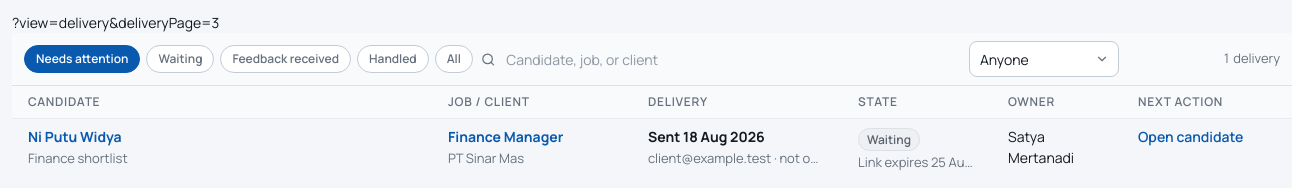
Test: DeliveryWorkbench › filters › drops the page when the filters change
Expected: the text "Ni Putu Widya" is shown, [28, 127, 122, 146]
Click the radio button labelled "All".
click(454, 59)  # box [435, 45, 473, 73]
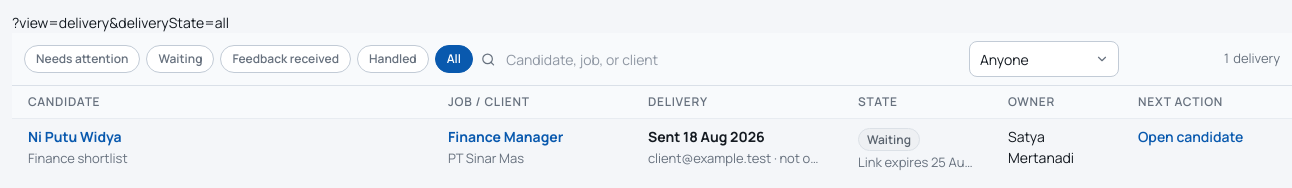
Expected: the text with test id "search" no longer shows "deliveryPage", [12, 13, 229, 32]
